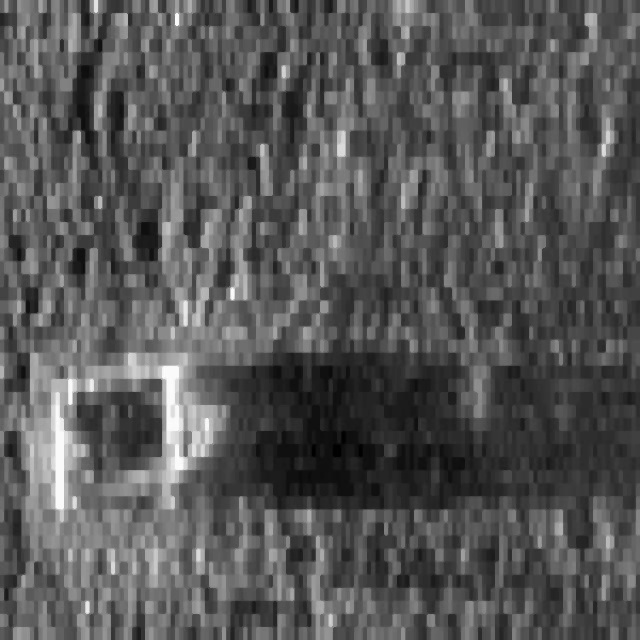Ship: (26, 318, 239, 554)
